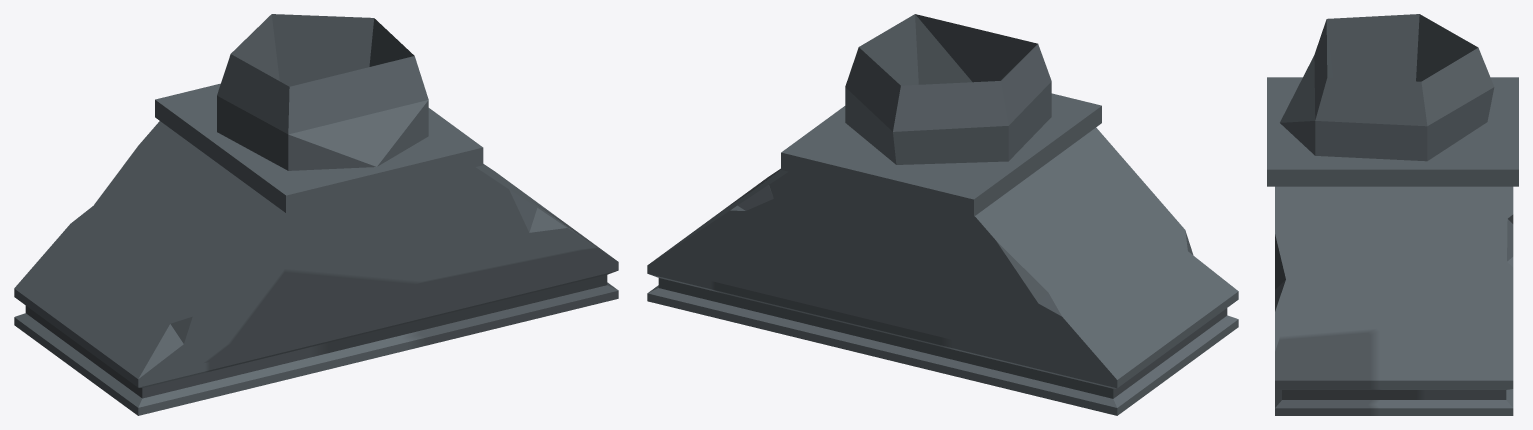
Rendered from SM_Prop_Chute_Exit_01.fbx.
The picture shows the model from 3 angles, left to right: view 1: azimuth 30°, elevation 25°; view 2: azimuth 150°, elevation 25°; view 3: azimuth 270°, elevation 25°; orthographic projection. The views are drawn at different scales.
Parts seen in each view (by area): view 1: SM_Prop_Chute_Exit_01; view 2: SM_Prop_Chute_Exit_01; view 3: SM_Prop_Chute_Exit_01.
Boxes of the visible parts, x1,y1,x2,y2 form: SM_Prop_Chute_Exit_01: (14,14,618,415); SM_Prop_Chute_Exit_01: (647,14,1238,415); SM_Prop_Chute_Exit_01: (1267,14,1518,415).
Bounding box in the file's own units: 315 × 167 × 149.
